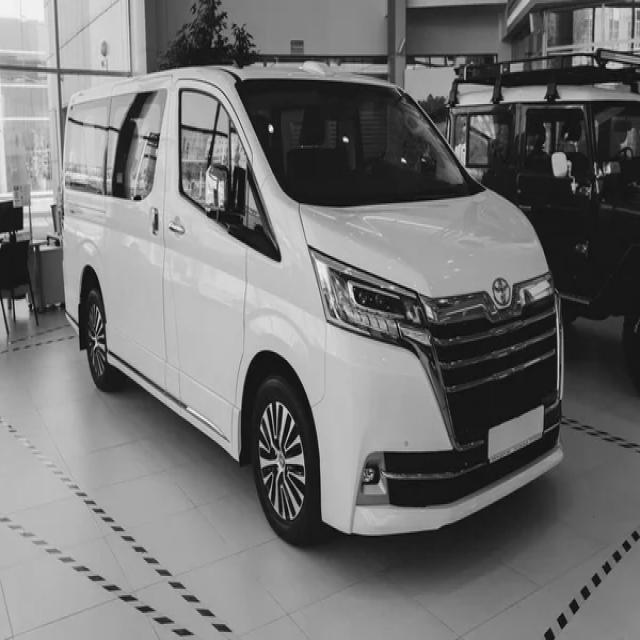Car: (64, 66, 565, 546), (449, 51, 640, 385)
